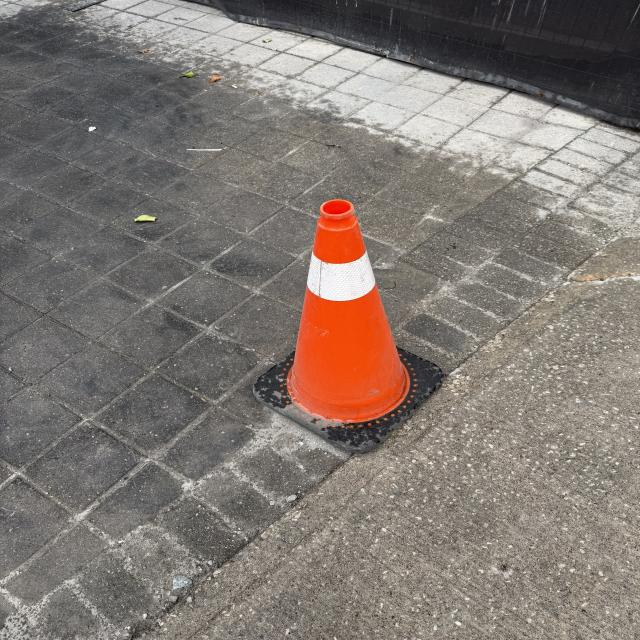Traffic Cone: (252, 200, 452, 453)
